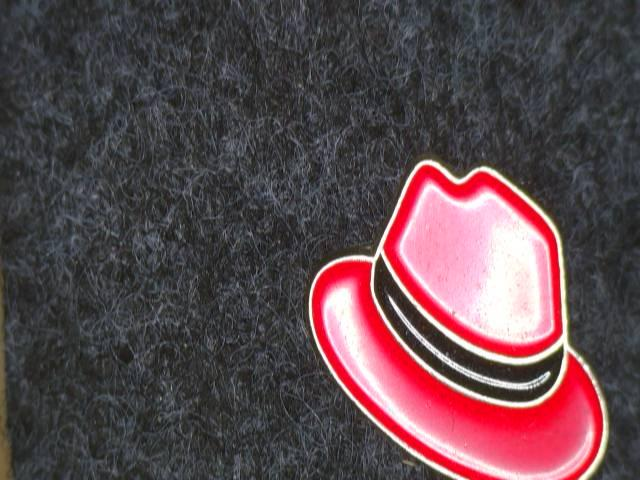Red-Hat: (271, 114, 640, 480)
